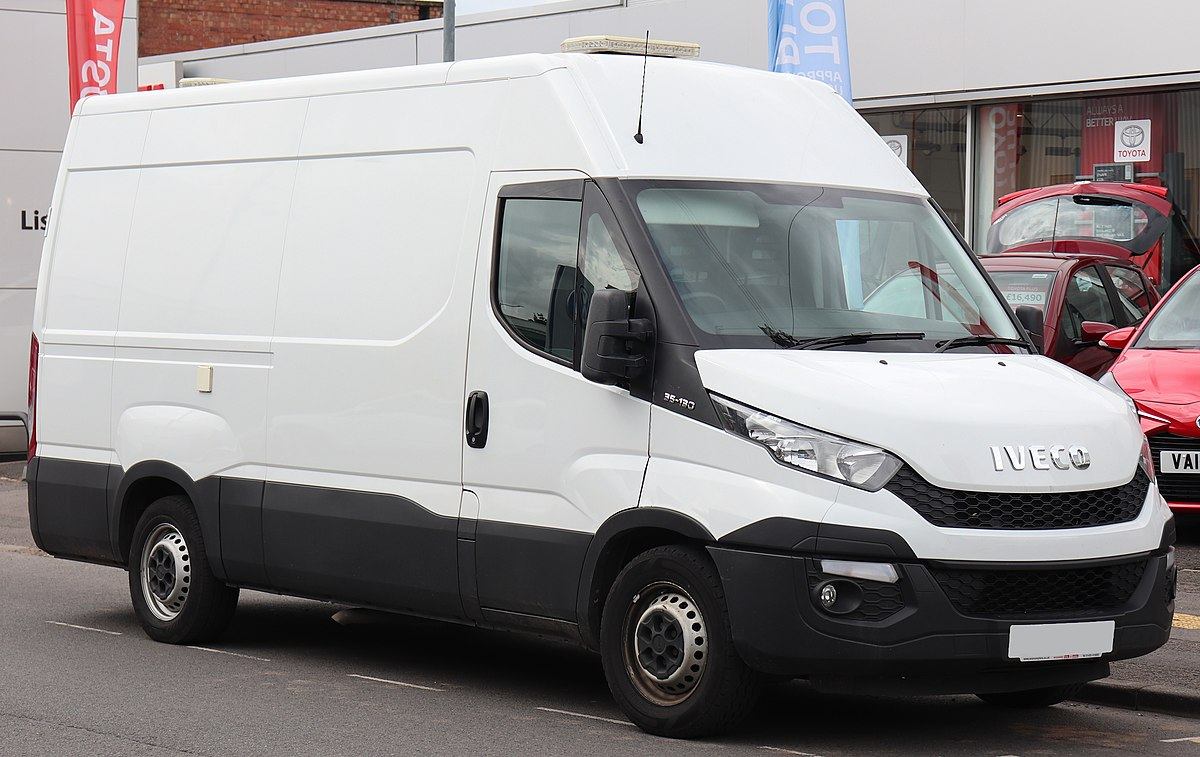van: (26, 37, 1182, 745)
